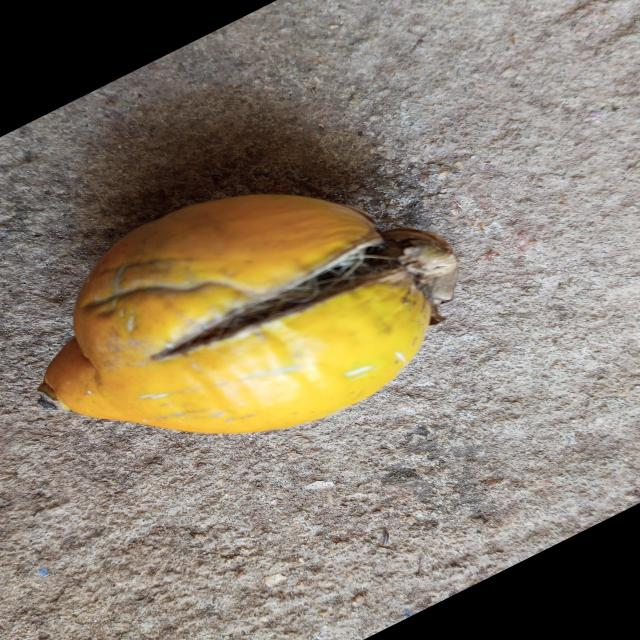damaged: (39, 194, 458, 438)
